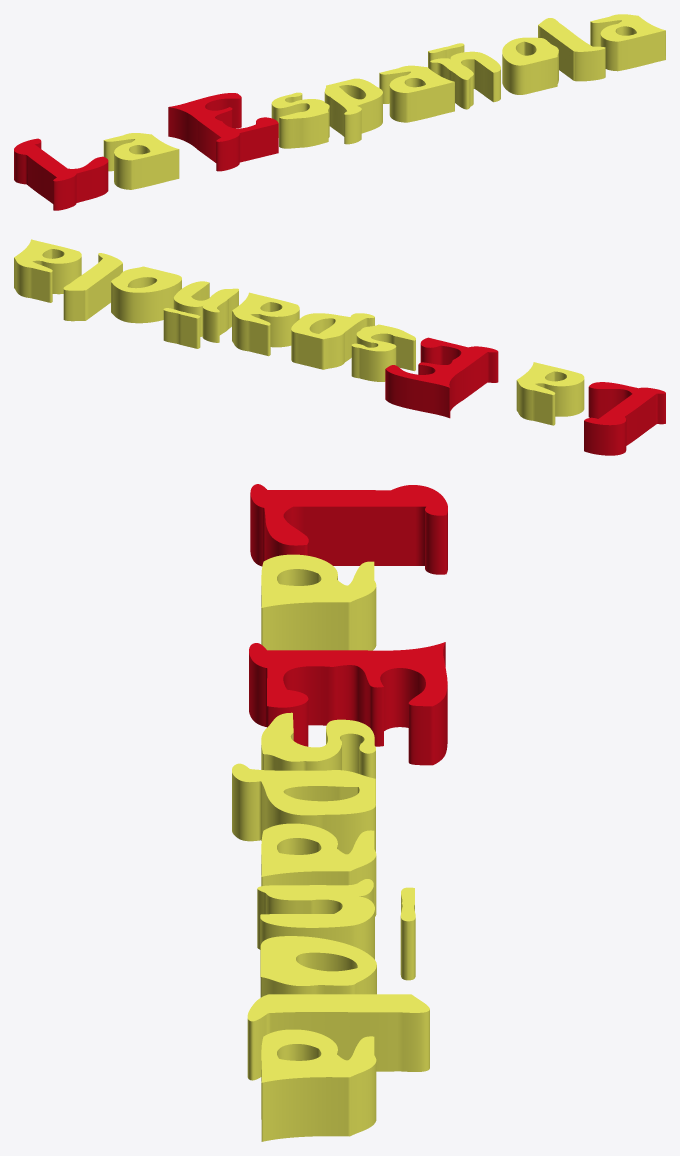
The model's file is Cartel.fbx.
3 renders of one model, top to bottom at view 1: azimuth 30°, elevation 25°; view 2: azimuth 150°, elevation 25°; view 3: azimuth 270°, elevation 25°, orthographic. The views are drawn at different scales.
Parts seen in each view (by area): view 1: Text, Text.001, Text.002; view 2: Text, Text.001, Text.002; view 3: Text, Text.001, Text.002.
Part boxes in pixels (<box>): Text: <box>103,14,665,189</box>; Text.001: <box>14,93,278,210</box>; Text.002: <box>428,43,464,68</box>; Text: <box>14,239,584,425</box>; Text.001: <box>385,337,665,455</box>; Text.002: <box>163,308,200,348</box>; Text: <box>232,554,429,1141</box>; Text.001: <box>249,484,447,765</box>; Text.002: <box>400,887,415,980</box>.
Bounding box in the file's own units: 608 × 28 × 92.86.
